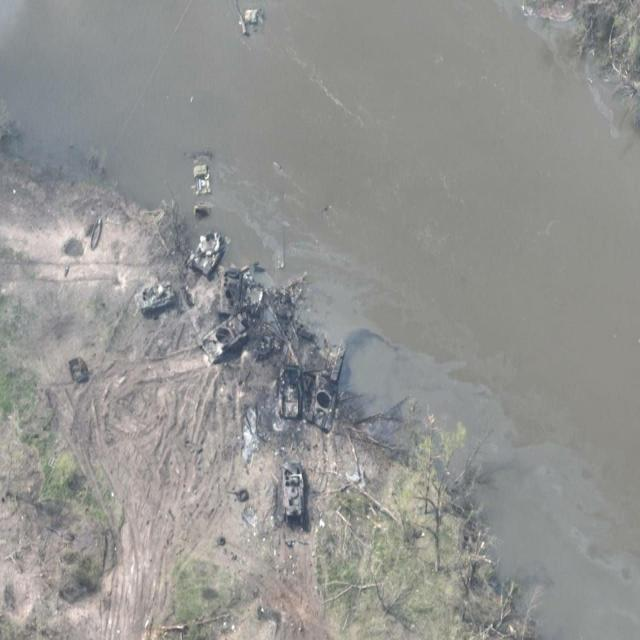Destroyed: (199, 321, 247, 360), (279, 464, 308, 522), (310, 376, 341, 429), (278, 368, 305, 419), (220, 271, 245, 318)
MBT: (186, 233, 230, 276), (134, 282, 177, 318)
